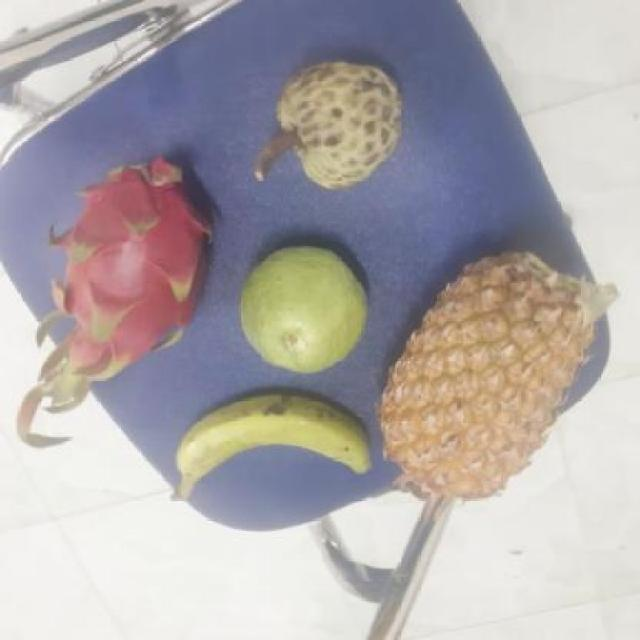banana: (178, 388, 388, 524)
dragon fruit: (51, 156, 224, 381)
guava: (240, 246, 378, 372)
pineapple: (383, 250, 599, 492)
sugar apple: (268, 62, 412, 186)
